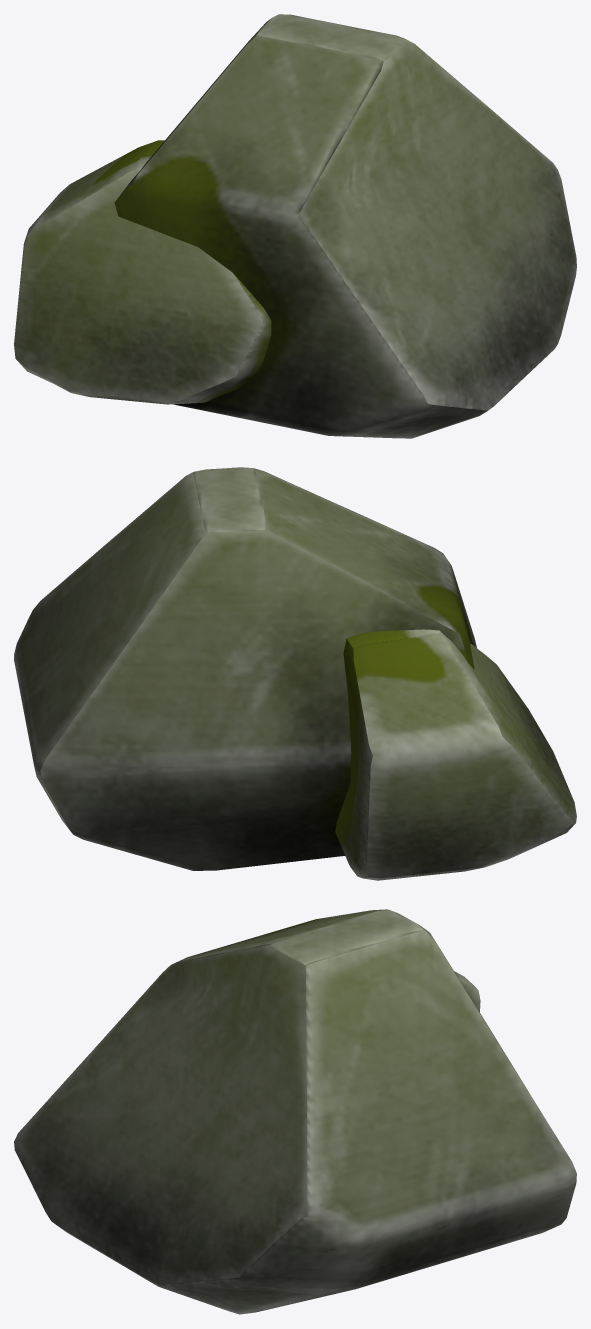
The model's file is rockSet4_unity.fbx.
3 views of the same model, one above another, from view 1: azimuth 30°, elevation 25°; view 2: azimuth 150°, elevation 25°; view 3: azimuth 270°, elevation 25° (orthographic). The views are drawn at different scales.
Visible parts, largest first — view 1: Object004; view 2: Object004; view 3: Object004.
Part boxes in pixels (x1,y1,x2,y2): Object004: (14, 14, 576, 438); Object004: (14, 467, 576, 880); Object004: (14, 909, 576, 1314).
Size of the model in its own units: 35.16 by 31.47 by 19.96.
